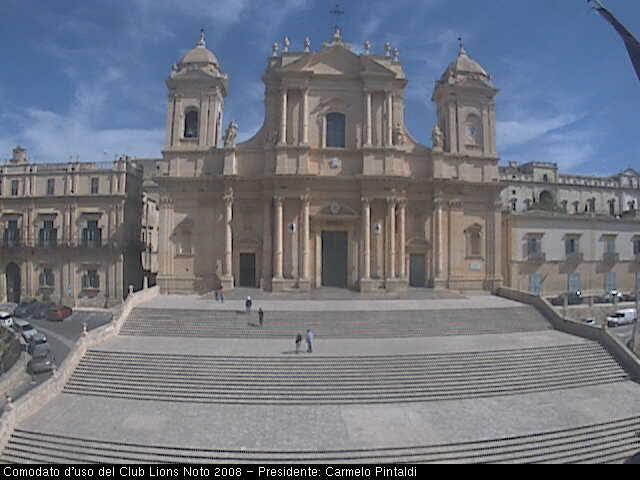person: (305, 329, 313, 354), (257, 308, 265, 332), (244, 295, 252, 315), (218, 285, 225, 305), (296, 333, 301, 354)
